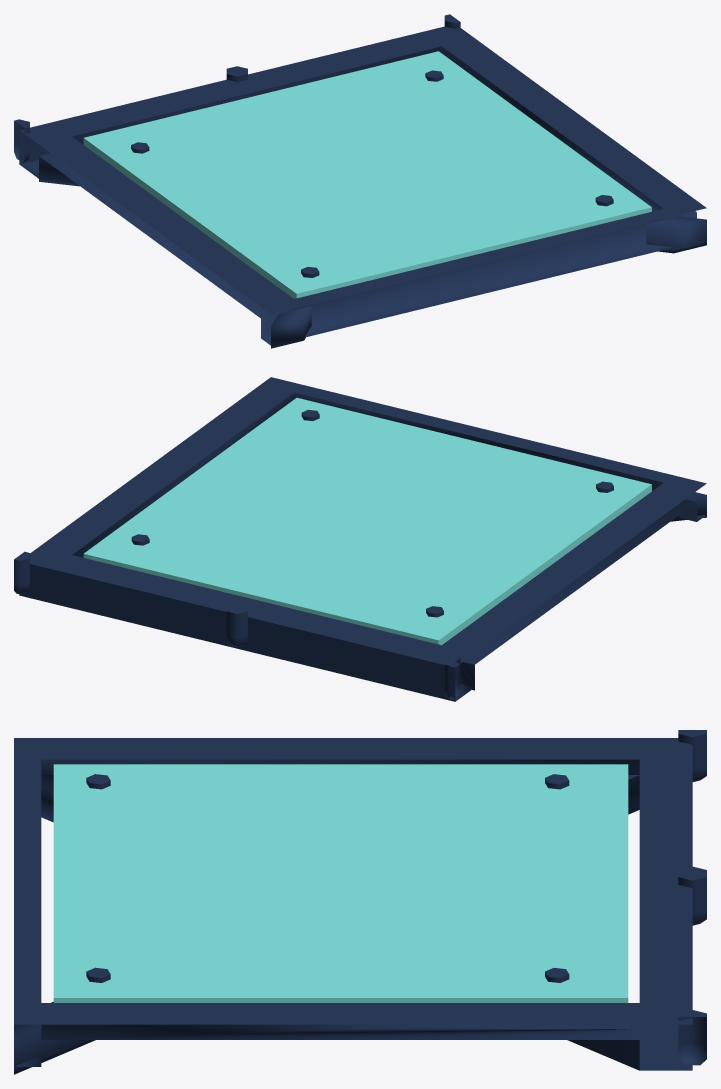
Rendered from Bridge Module A.fbx.
3 renders of one model, top to bottom at view 1: azimuth 30°, elevation 25°; view 2: azimuth 150°, elevation 25°; view 3: azimuth 270°, elevation 25°, orthographic. The views are drawn at different scales.
Parts seen in each view (by area): view 1: Cube.007; view 2: Cube.007; view 3: Cube.007.
Boxes of the visible parts, <box> form: Cube.007: <box>14,14,706,348</box>; Cube.007: <box>14,377,706,701</box>; Cube.007: <box>14,730,706,1074</box>.
Bounding box in the file's own units: 2 × 0.1882 × 2.04.
